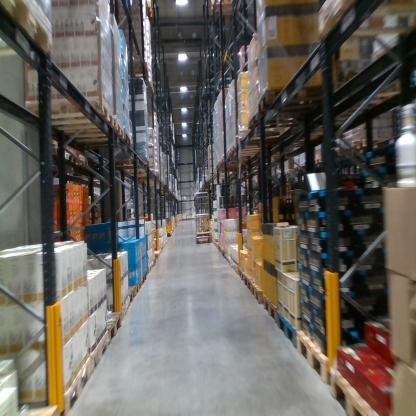pallet: (28, 92, 114, 134), (316, 4, 415, 40), (256, 79, 334, 119), (49, 350, 93, 415), (60, 117, 133, 155), (2, 1, 55, 53), (331, 369, 390, 415), (298, 322, 334, 394), (247, 107, 300, 130), (277, 307, 300, 358), (91, 327, 109, 379), (102, 306, 123, 347), (120, 1, 157, 24), (15, 398, 64, 415), (235, 131, 288, 144), (262, 290, 276, 334), (349, 139, 384, 156), (113, 297, 131, 326), (125, 61, 152, 78), (238, 267, 265, 284), (112, 156, 150, 167), (251, 279, 263, 305), (244, 273, 259, 293), (322, 148, 343, 162), (123, 284, 137, 304), (50, 144, 67, 160), (66, 151, 77, 165), (283, 166, 296, 177), (140, 271, 148, 285), (134, 280, 142, 293), (233, 260, 239, 276), (311, 155, 320, 164), (299, 161, 307, 171), (148, 261, 154, 272), (294, 165, 300, 174), (146, 266, 150, 277)
